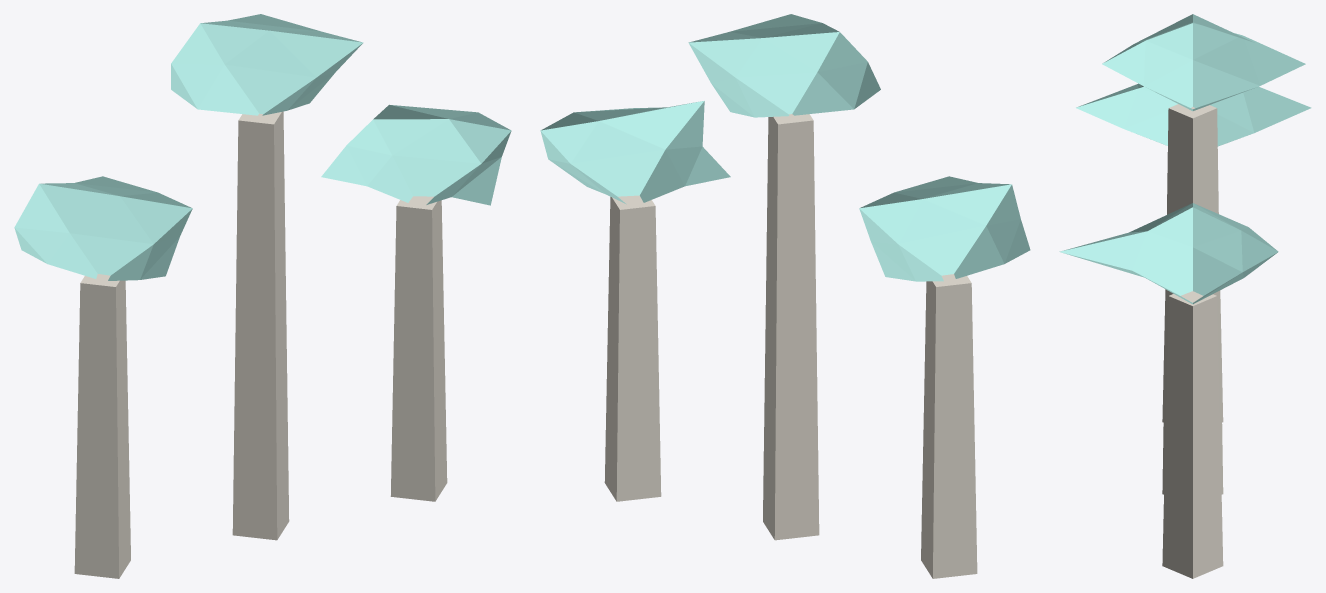
File: glowcap_v10.glb
The picture shows the model from 3 angles, left to right: view 1: azimuth 30°, elevation 25°; view 2: azimuth 150°, elevation 25°; view 3: azimuth 270°, elevation 25°; orthographic projection. The views are drawn at different scales.
Parts seen in each view (by area): view 1: lod0; view 2: lod0; view 3: lod0.
Boxes of the visible parts, <box> form: lod0: <box>14,14,511,578</box>; lod0: <box>540,14,1030,578</box>; lod0: <box>1059,14,1311,578</box>.
Size of what is drawn, in the model's own units: 0.4341 by 0.4354 by 0.2079.
